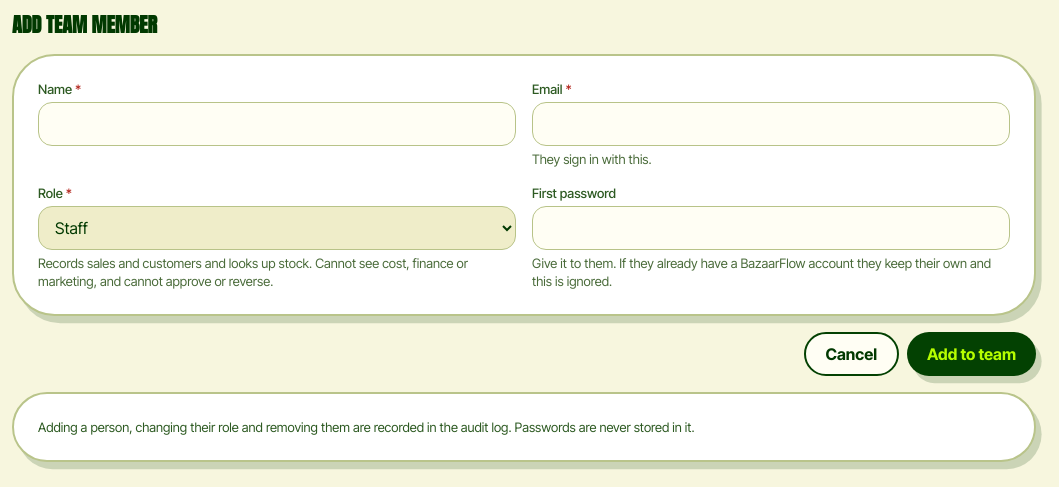
Test case: Add team member form › refuses a short first password before the server is asked
Type "Sana Staff" into the field labelled "Name *" at coordinates (277, 124), box [38,102,516,146]
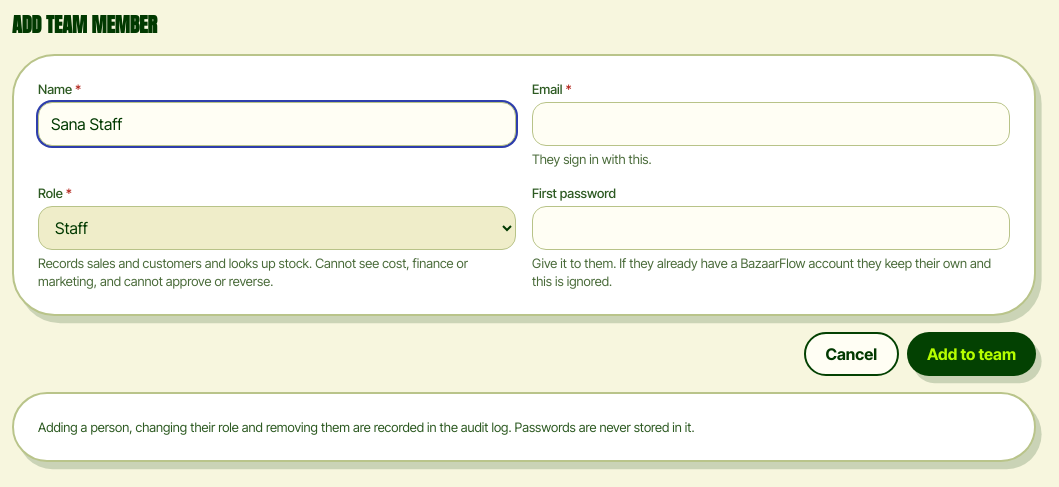
Type "sana@example.com" into the field labelled "Email *" at coordinates (771, 124), box [532,102,1010,146]
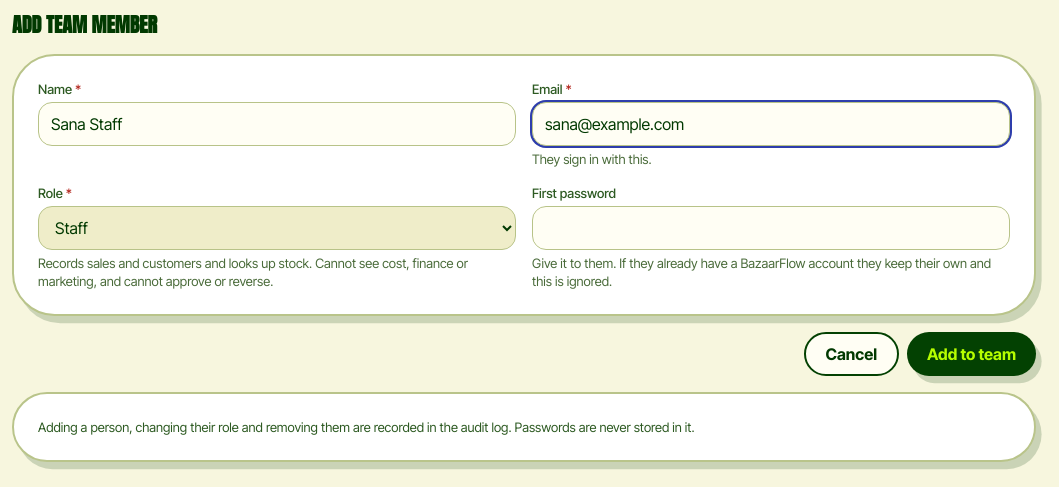
Type "short" into the password field labelled "First password" at coordinates (771, 228), box [532,206,1010,250]
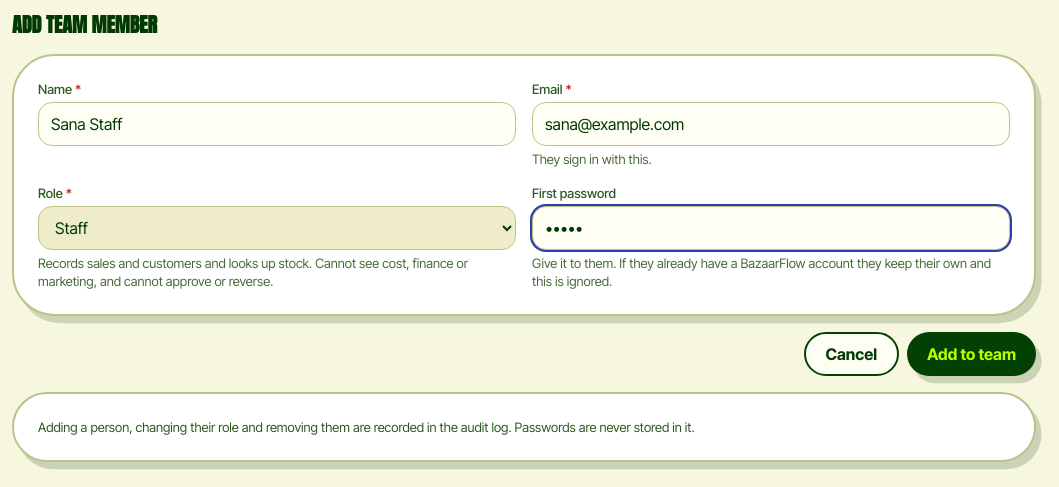
Click the button "Add to team" at coordinates (972, 354), box [907,332,1036,376]
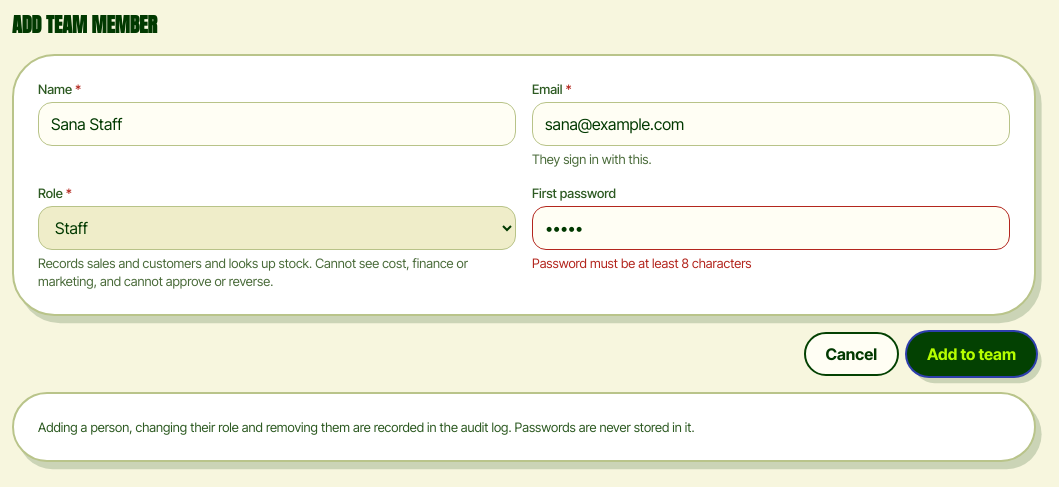
Now the text "Password must be at least 8 characters" is shown, box [532,255,752,271]
